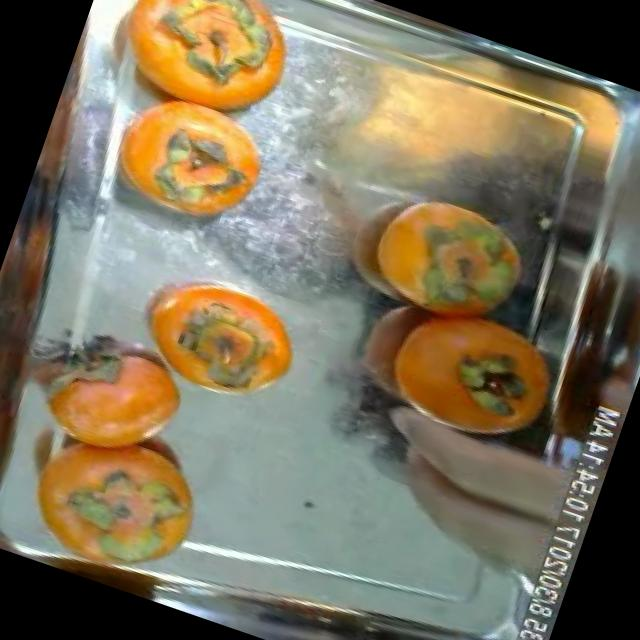Fruit: (350, 384, 596, 590), (350, 274, 586, 472), (102, 247, 324, 428), (352, 168, 556, 334), (134, 86, 288, 242)
